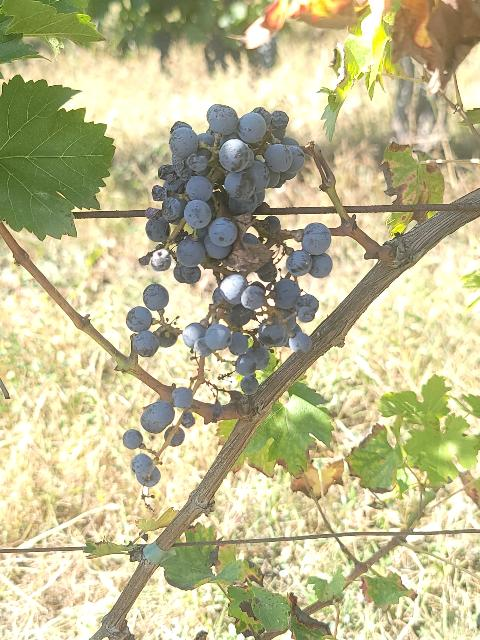grapes: (122, 104, 332, 486)
